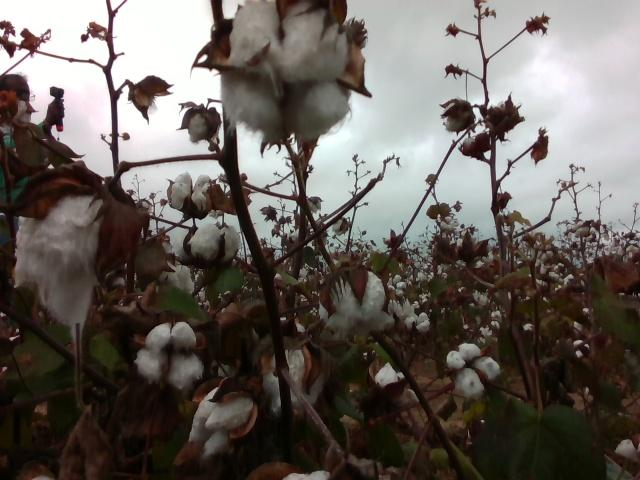cotton_ready: (220, 0, 350, 141), (12, 184, 130, 334), (265, 319, 326, 420), (186, 389, 257, 460), (319, 268, 389, 336), (135, 324, 204, 392), (445, 345, 502, 398), (167, 171, 218, 218), (188, 222, 242, 265), (182, 107, 221, 145), (156, 262, 195, 296), (375, 364, 403, 398), (615, 438, 640, 470), (279, 470, 336, 480)
